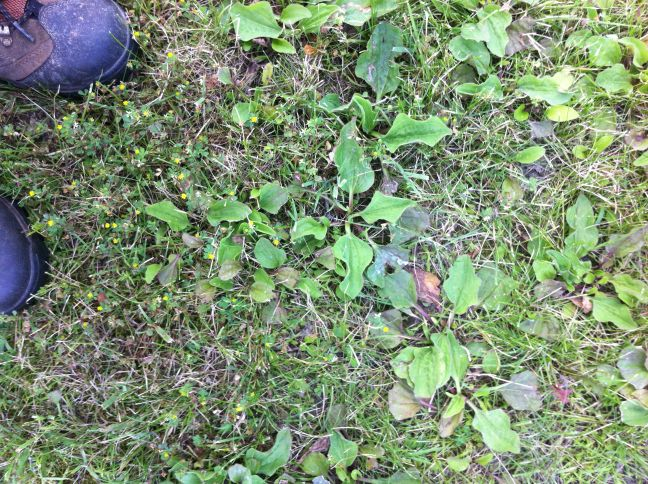weed1: (282, 128, 412, 307), (319, 15, 454, 182), (367, 254, 516, 388), (135, 171, 293, 296), (529, 184, 647, 342), (400, 329, 545, 456), (223, 1, 397, 51)
